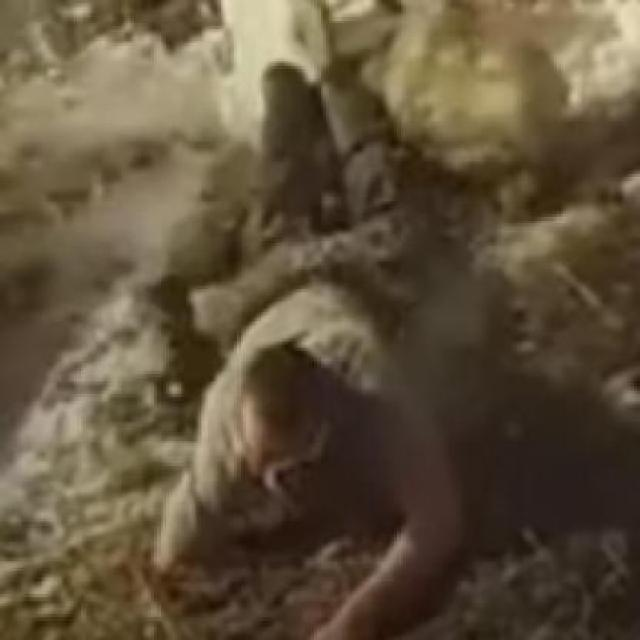fall: (157, 49, 480, 637)
